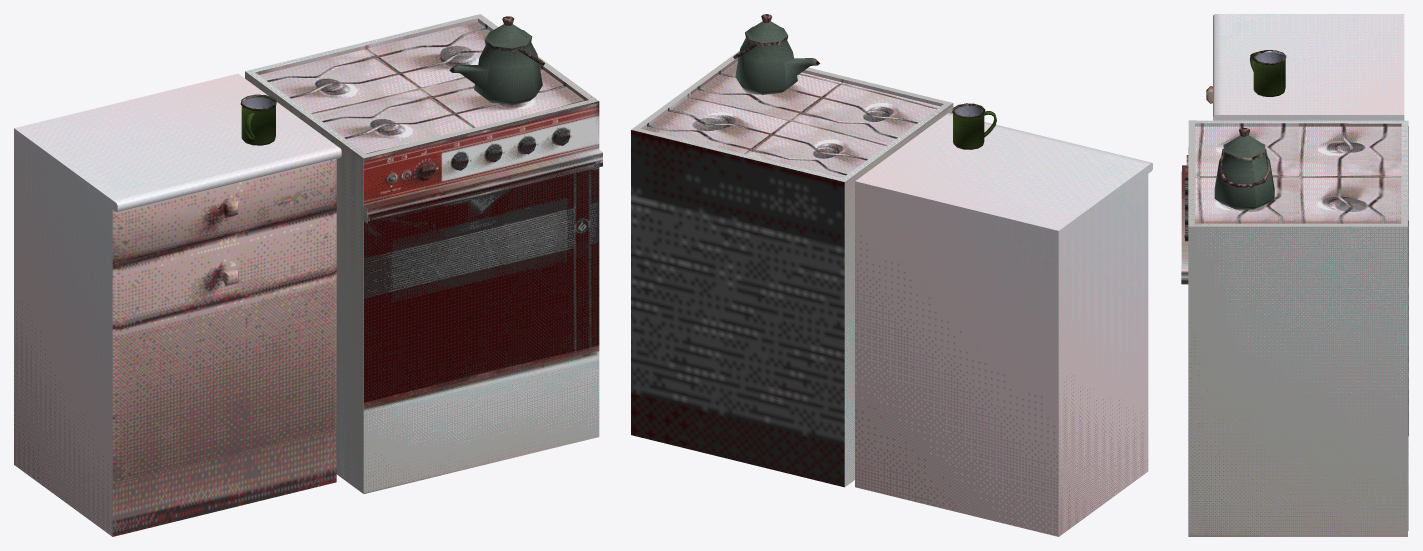
File: kitchen stuff.fbx
3 views of the same model, side by side, from view 1: azimuth 30°, elevation 25°; view 2: azimuth 150°, elevation 25°; view 3: azimuth 270°, elevation 25° (orthographic). The views are drawn at different scales.
Visible parts, largest first — view 1: kitchen shelf, oven, kittle, cup; view 2: kitchen shelf, oven, kittle, cup; view 3: oven, kitchen shelf, kittle, cup.
Part boxes in pixels (left/top/right/bottom): kitchen shelf: left=14, top=73, right=341, bottom=536; oven: left=245, top=14, right=602, bottom=493; kittle: left=449, top=16, right=544, bottom=105; cup: left=240, top=94, right=276, bottom=145; kitchen shelf: left=855, top=113, right=1152, bottom=536; oven: left=631, top=51, right=953, bottom=487; kittle: left=733, top=14, right=819, bottom=94; cup: left=952, top=103, right=996, bottom=149; oven: left=1181, top=120, right=1408, bottom=536; kitchen shelf: left=1206, top=14, right=1404, bottom=120; kittle: left=1214, top=128, right=1274, bottom=209; cup: left=1250, top=50, right=1286, bottom=96.
Size of the model in its own units: 220 by 185 by 99.82.
